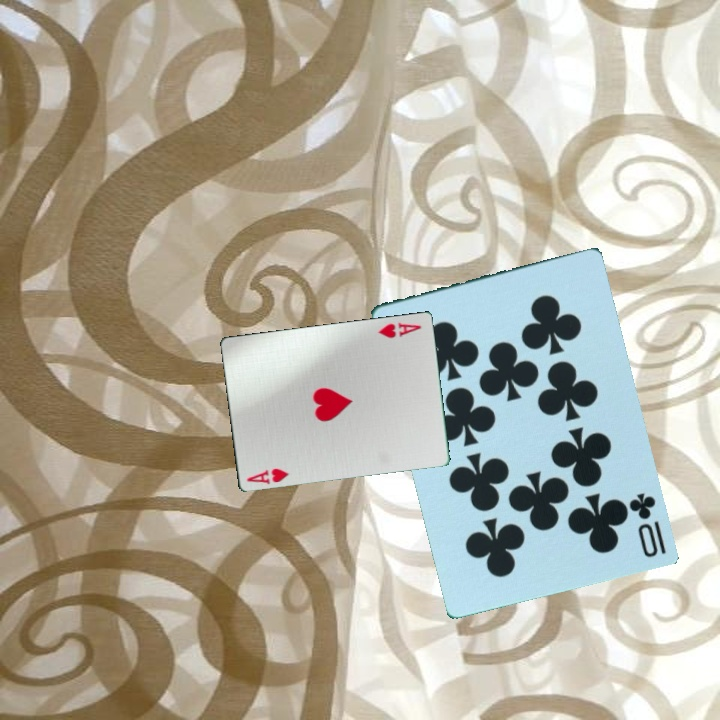10c: (627, 489, 669, 557)
Ah: (375, 319, 424, 341), (243, 465, 291, 487)
